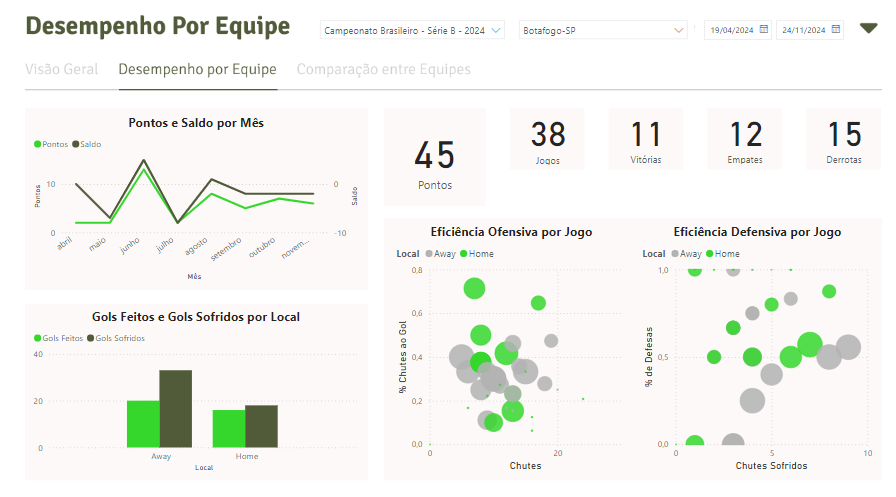

Layout of this report page (visuals, bound fields, positions):
{"tool":"powerbi","page":{"name":"Desempenho por Equipe","canvas":[1280,720],"ordinal":1},"visuals":[{"type":"slicer","fields":{"Values":["public campeonatobr_serieb.team"]},"box":[708.7,25.5,280.6,45.4],"z":0},{"type":"slicer","fields":{"Values":["public campeonatobr_serieb.tournament"]},"box":[447.9,25.5,242.4,45.4],"z":1000},{"type":"slicer","fields":{"Values":["public campeonatobr_serieb.date"]},"box":[989.3,25.5,221.1,45.4],"z":2000},{"type":"card","fields":{"Values":["Count(public campeonatobr_serieb.round)"]},"box":[552.8,168.7,136.1,123.3],"z":3000},{"type":"card","fields":{"Values":["Count(public campeonatobr_serieb.round)"]},"box":[731.3,162.4,99.2,80.8],"z":4000},{"type":"card","fields":{"Values":["Count(public campeonatobr_serieb.round)"]},"box":[870.2,163,99.2,80.8],"z":5000},{"type":"card","fields":{"Values":["Count(public campeonatobr_serieb.round)"]},"box":[1010.6,162.4,99.2,80.8],"z":6000},{"type":"card","fields":{"Values":["Count(public campeonatobr_serieb.round)"]},"box":[1150.9,162.4,99.2,80.8],"z":7000},{"type":"lineChart","fields":{"Category":["public campeonatobr_serieb.date.Variation.Hierarquia de datas.Ano","public campeonatobr_serieb.date.Variation.Hierarquia de datas.Mês","public campeonatobr_serieb.date.Variation.Hierarquia de datas.Dia"],"Y":["Sum(public campeonatobr_serieb.points)"],"Y2":["Sum(public campeonatobr_serieb.gdiff)"]},"box":[46.8,168.7,470.6,240.9],"z":8000},{"type":"scatterChart","fields":{"X":["Sum(public campeonatobr_serieb.shots)"],"Y":["Sum(public campeonatobr_serieb.p_shotsontarget)"],"Category":["public campeonatobr_serieb.idgameteam"],"Size":["Sum(public campeonatobr_serieb.goals_shots)"],"Series":["public campeonatobr_serieb.venue"]},"box":[561.3,323.1,335.9,357.2],"z":9000},{"type":"scatterChart","fields":{"Category":["public campeonatobr_serieb.idgameteam"],"X":["Sum(public campeonatobr_serieb.shotsontarget_against)"],"Y":["Sum(public campeonatobr_serieb.p_saves)"],"Size":["Sum(public campeonatobr_serieb.ga)"],"Series":["public campeonatobr_serieb.venue"]},"box":[909.9,323.1,335.9,357.2],"z":10000},{"type":"clusteredColumnChart","fields":{"Category":["public campeonatobr_serieb.venue"],"Y":["Sum(public campeonatobr_serieb.ga)","Sum(public campeonatobr_serieb.gf)"]},"box":[46.8,443.6,470.6,236.7],"z":11000},{"type":"actionButton","box":[34,85,117.6,39.7],"z":12000},{"type":"actionButton","box":[163,85,242.4,39.7],"z":13000},{"type":"actionButton","box":[415.3,85,265,39.7],"z":14000}]}

Visuals, with their boxes in screenshot pixels (x1, y1, x2, y2), scaled from the page's 1280x720 canvas onto the 896x497 screenshot:
slicer - public campeonatobr_serieb.team: {"x1": 496, "y1": 18, "x2": 693, "y2": 49}
slicer - public campeonatobr_serieb.tournament: {"x1": 314, "y1": 18, "x2": 483, "y2": 49}
slicer - public campeonatobr_serieb.date: {"x1": 693, "y1": 18, "x2": 847, "y2": 49}
card - Count(public campeonatobr_serieb.round): {"x1": 387, "y1": 116, "x2": 482, "y2": 202}
card - Count(public campeonatobr_serieb.round): {"x1": 512, "y1": 112, "x2": 581, "y2": 168}
card - Count(public campeonatobr_serieb.round): {"x1": 609, "y1": 113, "x2": 679, "y2": 168}
card - Count(public campeonatobr_serieb.round): {"x1": 707, "y1": 112, "x2": 777, "y2": 168}
card - Count(public campeonatobr_serieb.round): {"x1": 806, "y1": 112, "x2": 875, "y2": 168}
lineChart - public campeonatobr_serieb.date.Variation.Hierarquia de datas.Ano x public campeonatobr_serieb.date.Variation.Hierarquia de datas.Mês: {"x1": 33, "y1": 116, "x2": 362, "y2": 283}
scatterChart - Sum(public campeonatobr_serieb.shots) x Sum(public campeonatobr_serieb.p_shotsontarget): {"x1": 393, "y1": 223, "x2": 628, "y2": 470}
scatterChart - public campeonatobr_serieb.idgameteam x Sum(public campeonatobr_serieb.shotsontarget_against): {"x1": 637, "y1": 223, "x2": 872, "y2": 470}
clusteredColumnChart - public campeonatobr_serieb.venue x Sum(public campeonatobr_serieb.ga): {"x1": 33, "y1": 306, "x2": 362, "y2": 470}
actionButton: {"x1": 24, "y1": 59, "x2": 106, "y2": 86}
actionButton: {"x1": 114, "y1": 59, "x2": 284, "y2": 86}
actionButton: {"x1": 291, "y1": 59, "x2": 476, "y2": 86}
